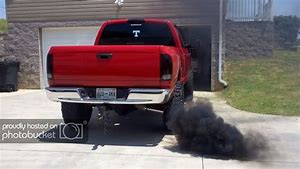smoke: (165, 99, 267, 159)
